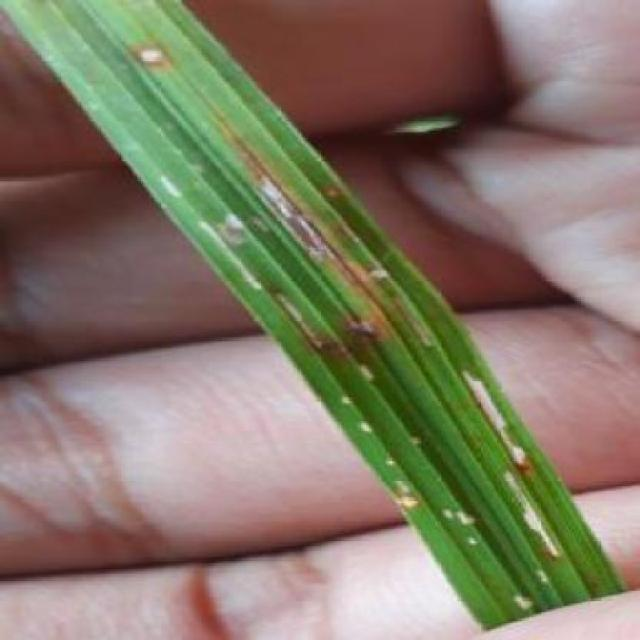Bacterial_Leaf_Blight: (212, 110, 350, 258), (241, 256, 328, 361), (105, 27, 182, 79)
